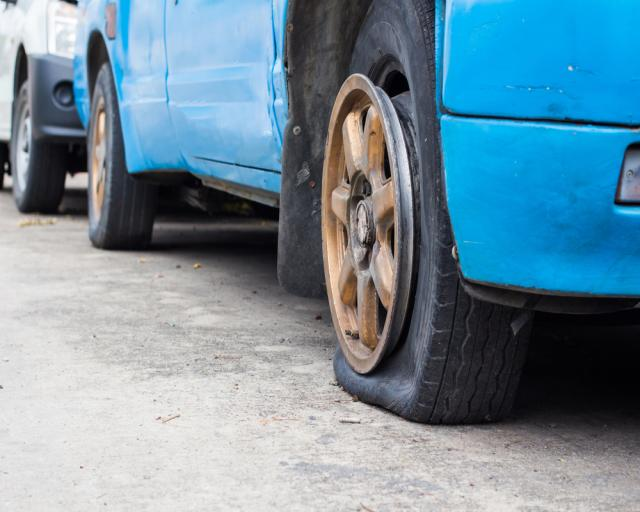tire flat: (322, 0, 534, 423)
